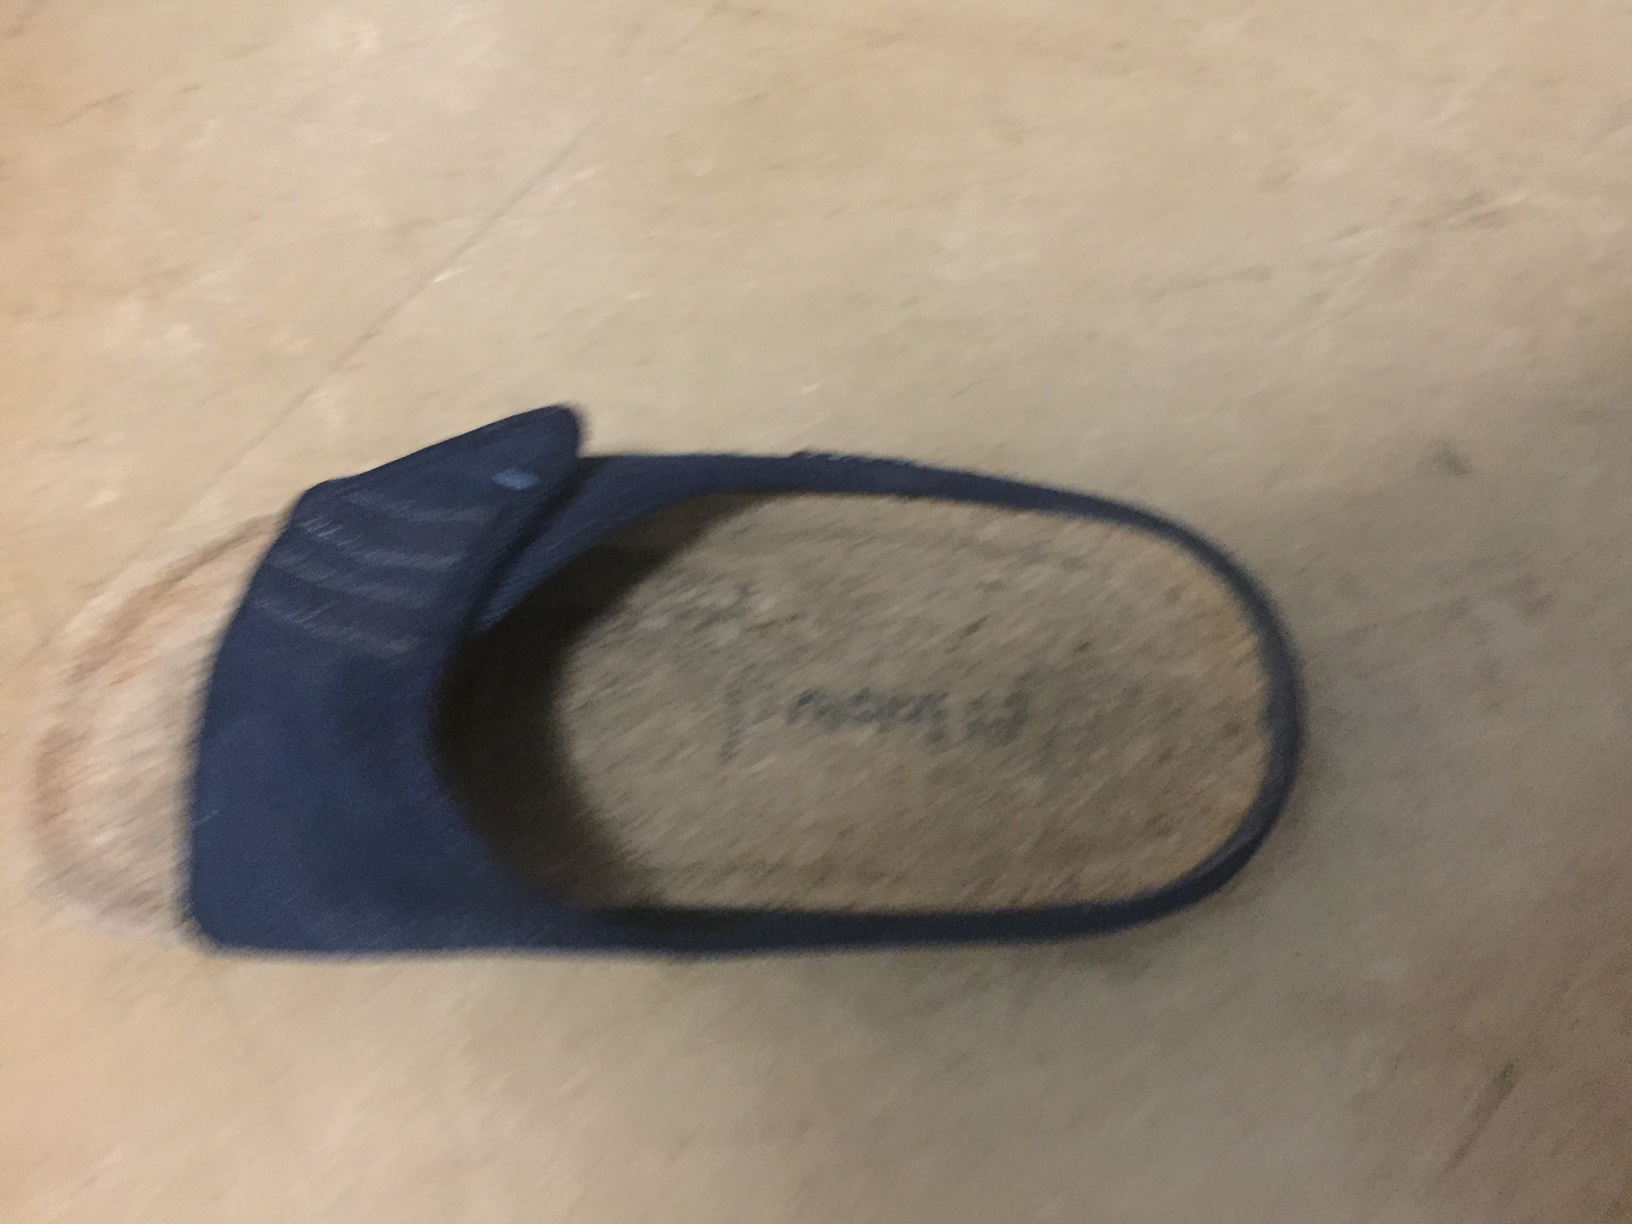car: (21, 415, 1322, 964)
